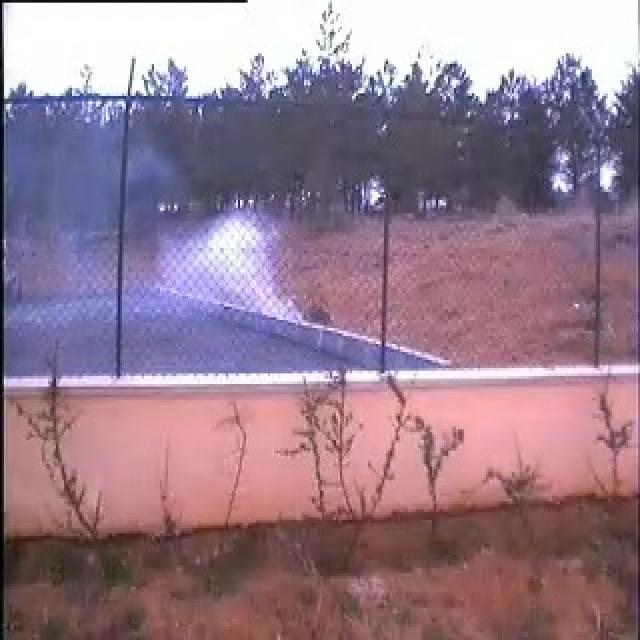smoke: (126, 203, 306, 366)
